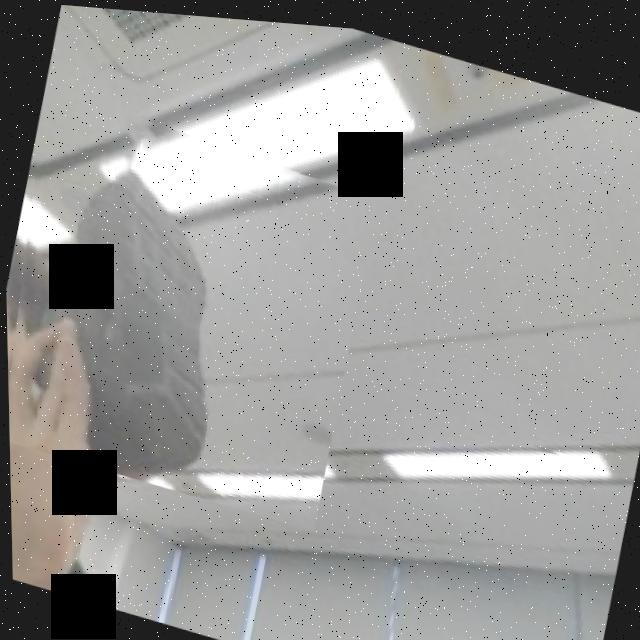shoe: (1, 81, 386, 530)
